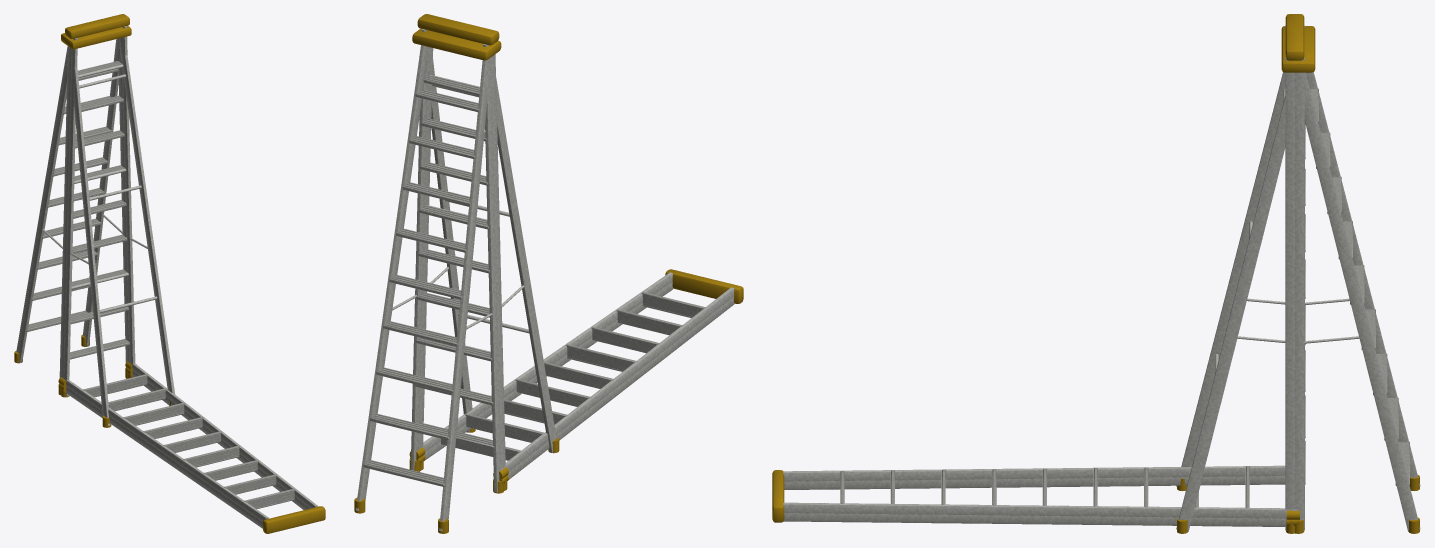
Rendered from ladder.glb.
The picture shows the model from 3 angles, left to right: view 1: azimuth 30°, elevation 25°; view 2: azimuth 150°, elevation 25°; view 3: azimuth 270°, elevation 25°; orthographic projection. The views are drawn at different scales.
Visible parts, largest first — view 1: Ladder_Open_rails, Ladder_Closed_rails, Ladder_Laid_Out_rails, Ladder_Laid_Out_steps, Ladder_Closed_steps, Ladder_Open_steps, Ladder_Laid_Out_cap, Ladder_Closed_cap, Ladder_Open_cap; view 2: Ladder_Open_rails, Ladder_Closed_rails, Ladder_Laid_Out_rails, Ladder_Laid_Out_steps, Ladder_Open_steps, Ladder_Closed_steps, Ladder_Open_cap, Ladder_Closed_cap, Ladder_Laid_Out_cap; view 3: Ladder_Laid_Out_rails, Ladder_Open_rails, Ladder_Closed_rails, Ladder_Open_steps, Ladder_Laid_Out_steps, Ladder_Open_cap, Ladder_Closed_cap.
Boxes of the visible parts, x1,y1,x2,y2 form: Ladder_Open_rails: (16, 38, 175, 425); Ladder_Closed_rails: (59, 26, 135, 396); Ladder_Laid_Out_rails: (61, 364, 318, 528); Ladder_Laid_Out_steps: (83, 374, 295, 508); Ladder_Closed_steps: (70, 61, 129, 359); Ladder_Open_steps: (26, 68, 118, 331); Ladder_Laid_Out_cap: (263, 506, 325, 533); Ladder_Closed_cap: (65, 14, 129, 38); Ladder_Open_cap: (61, 25, 131, 49); Ladder_Open_rails: (355, 45, 556, 531); Ladder_Closed_rails: (410, 29, 505, 492); Ladder_Laid_Out_rails: (423, 272, 734, 479); Ladder_Laid_Out_steps: (441, 292, 705, 460); Ladder_Open_steps: (363, 89, 479, 486); Ladder_Closed_steps: (414, 75, 494, 449); Ladder_Open_cap: (412, 28, 501, 60); Ladder_Closed_cap: (417, 14, 499, 45); Ladder_Laid_Out_cap: (665, 269, 743, 303); Ladder_Laid_Out_rails: (783, 465, 1298, 526); Ladder_Open_rails: (1176, 72, 1420, 531); Ladder_Closed_rails: (1285, 25, 1304, 530); Ladder_Open_steps: (1305, 88, 1409, 485); Ladder_Laid_Out_steps: (840, 466, 1249, 508); Ladder_Open_cap: (1281, 26, 1315, 72); Ladder_Closed_cap: (1285, 14, 1304, 60).
Size of the model in its own units: 0.668 by 3.13 by 3.84.
3 materials, 3 textured.
